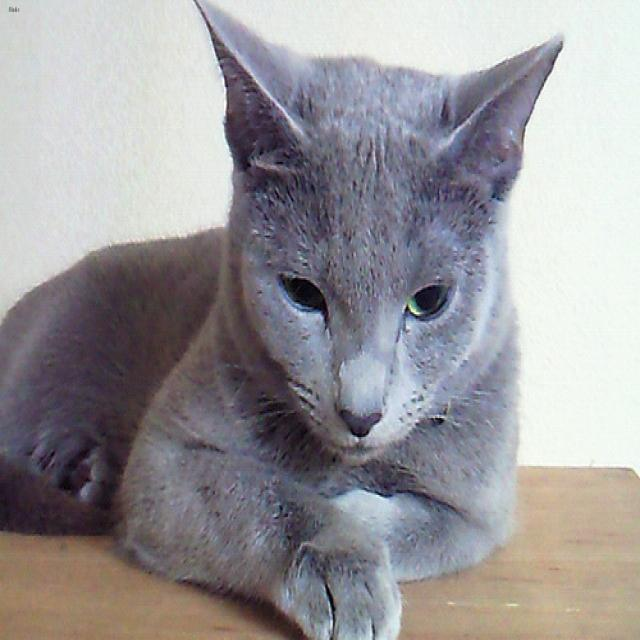Russian_Blue: (191, 0, 562, 464)
